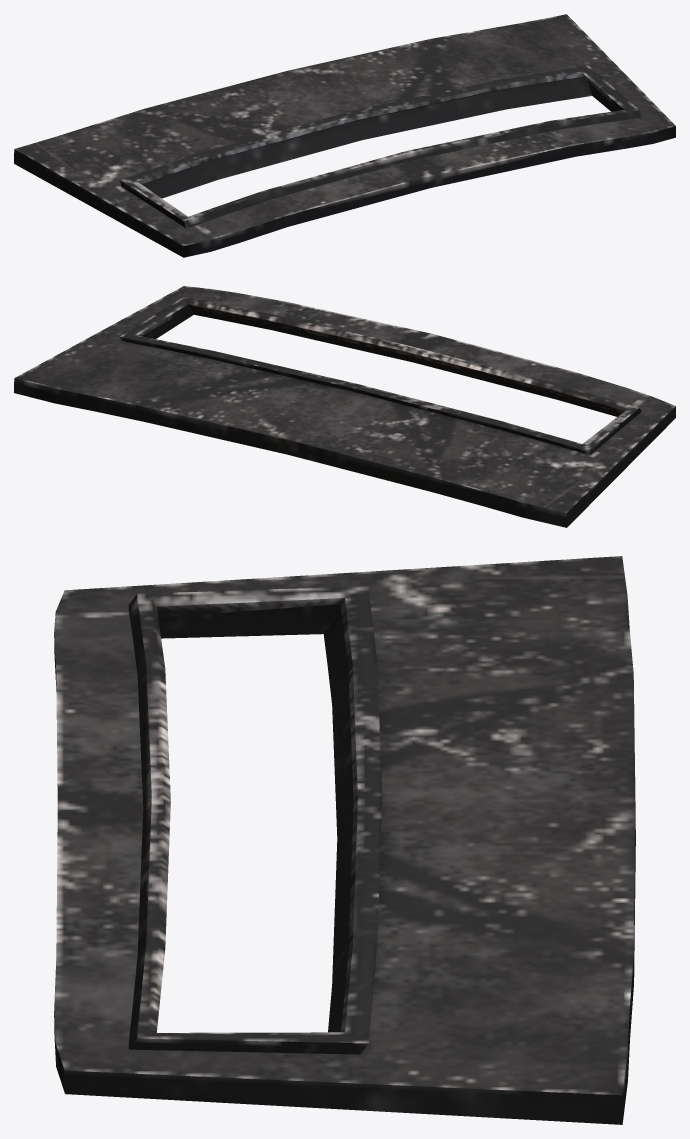
The model's file is FJ75WindshieldArmor_WorldItem.fbx.
3 renders of one model, top to bottom at view 1: azimuth 30°, elevation 25°; view 2: azimuth 150°, elevation 25°; view 3: azimuth 270°, elevation 25°, orthographic. The views are drawn at different scales.
Visible parts, largest first — view 1: ArmorWindsield_obj; view 2: ArmorWindsield_obj; view 3: ArmorWindsield_obj.
Boxes of the visible parts, <box> form: ArmorWindsield_obj: <box>14,14,675,257</box>; ArmorWindsield_obj: <box>14,286,675,527</box>; ArmorWindsield_obj: <box>54,556,635,1124</box>.
Bounding box in the file's own units: 2.34 × 0.121 × 1.07.
